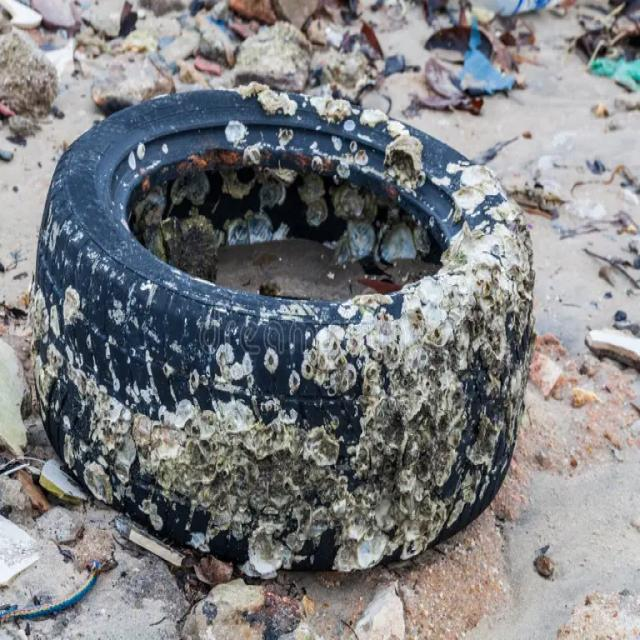tire: (28, 83, 536, 575)
